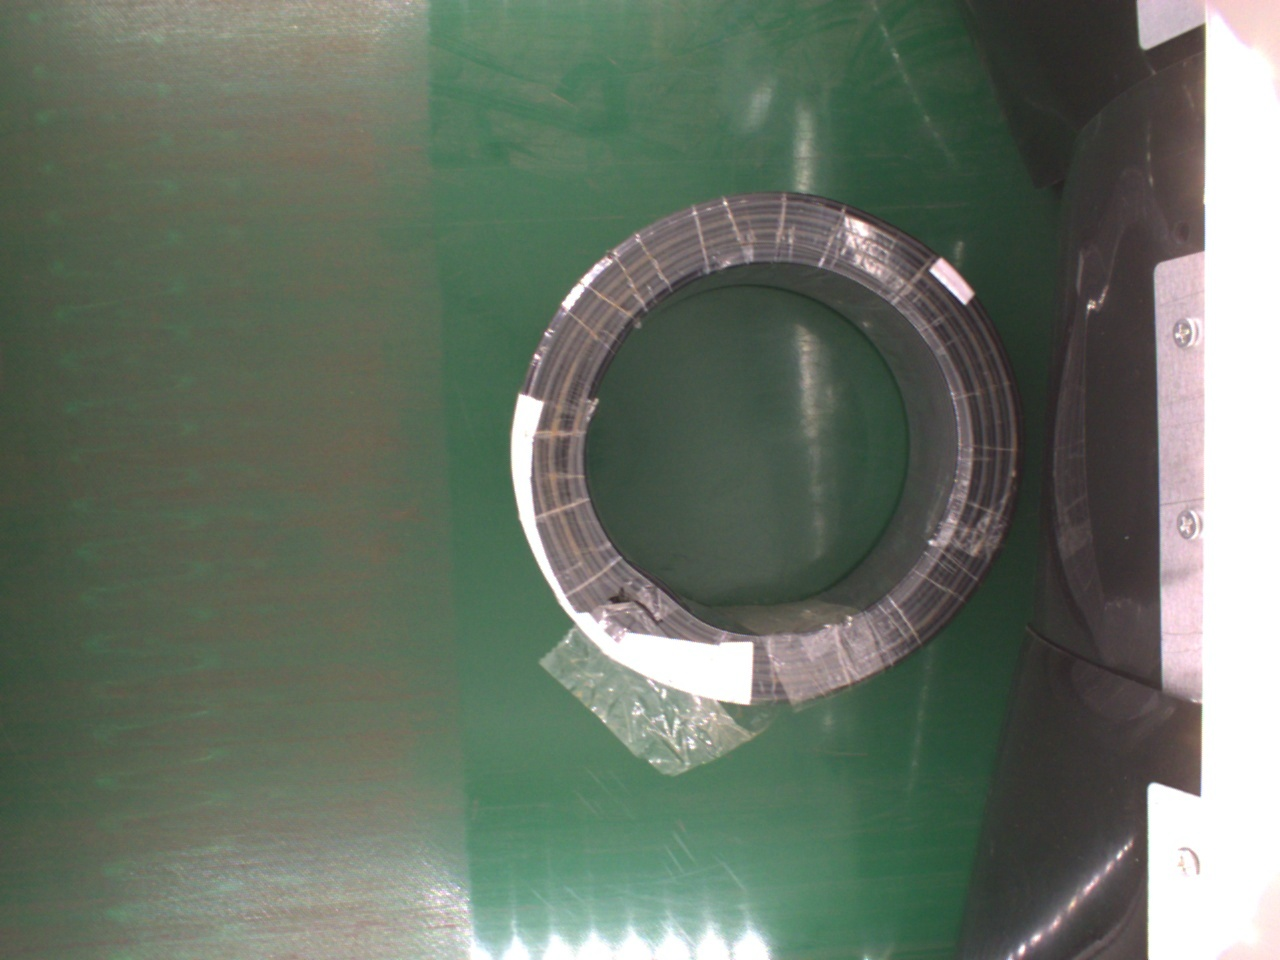black: (512, 186, 1024, 706)
